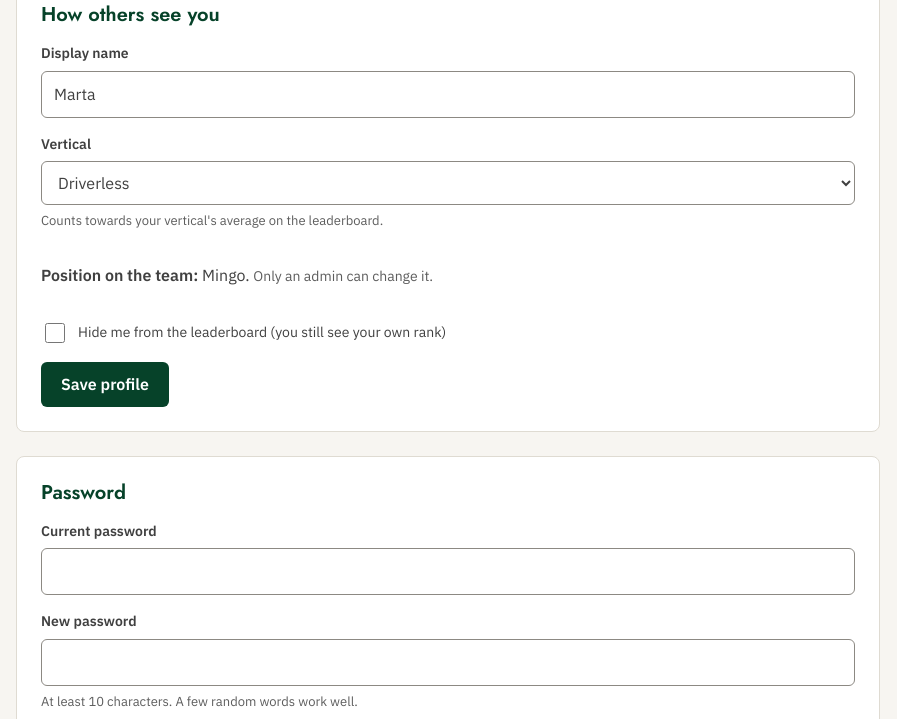
Scenario: a taken name is shown on the field and disappears when edited
This screenshot has width=897, height=719.
(page scrolled)
Click the button "Save profile" at (105, 385), box [41,362,169,407]
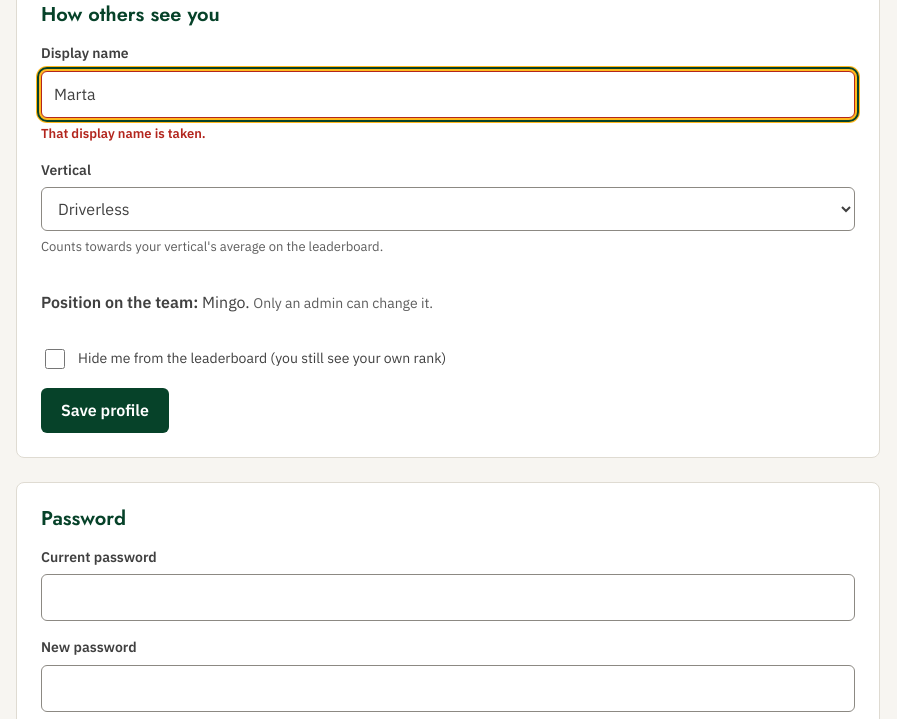
Expected: the text "That display name is taken." is shown, [41,124,206,142]
Type "2" into the field labelled "Display name" at (448, 94), box [41,71,855,118]
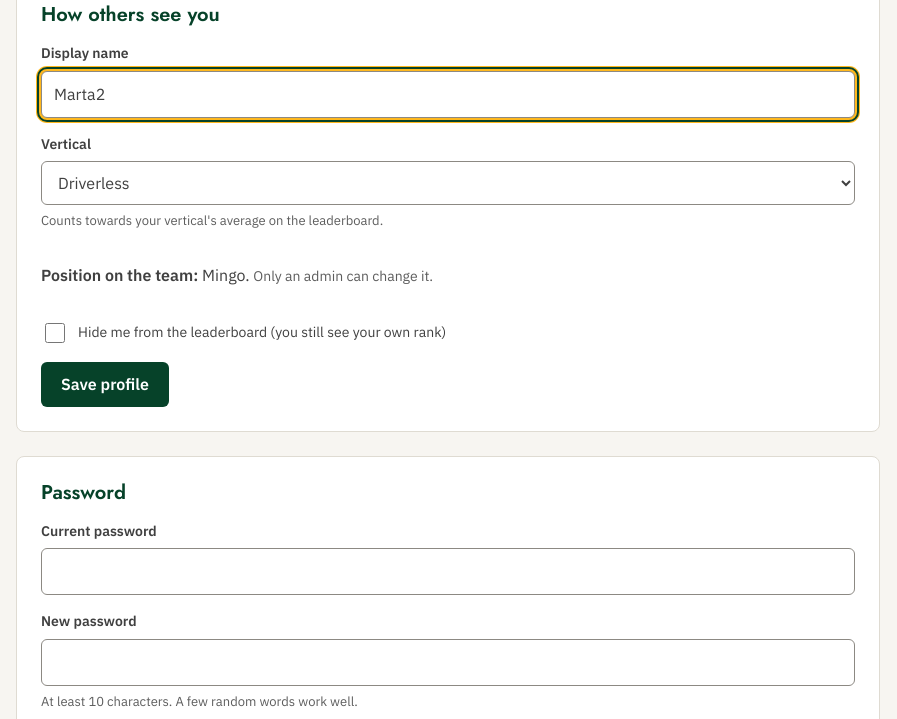
Expected: the text "That display name is taken." is gone
